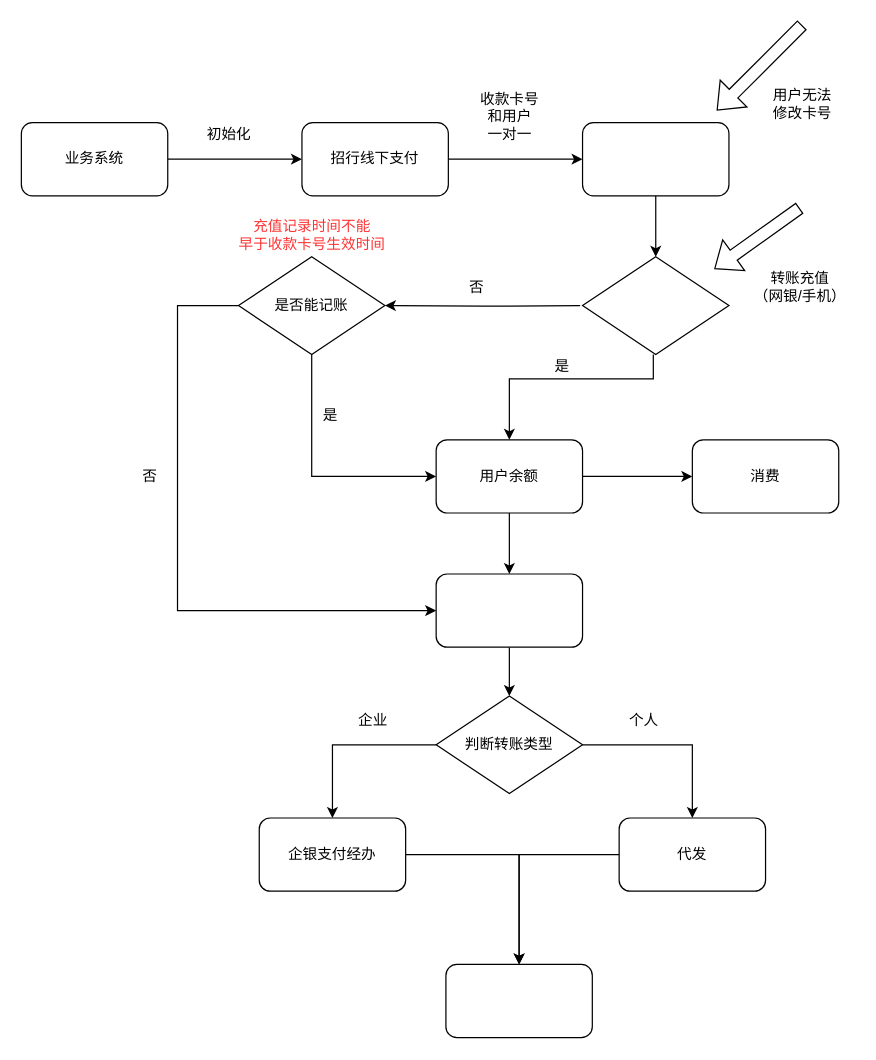
This 876x1060 diagram has some shape labels left out. The shapes that lost their labels are listed below. From the top down, each one's centre as x and y in pixels, then its label:
[655,158]: 获取收款卡号 (绑定到用户)
[655,305]: 转账卡号和收款 卡号是否一致
[509,610]: 提现
[518,1000]: 原路退回到付款卡号
